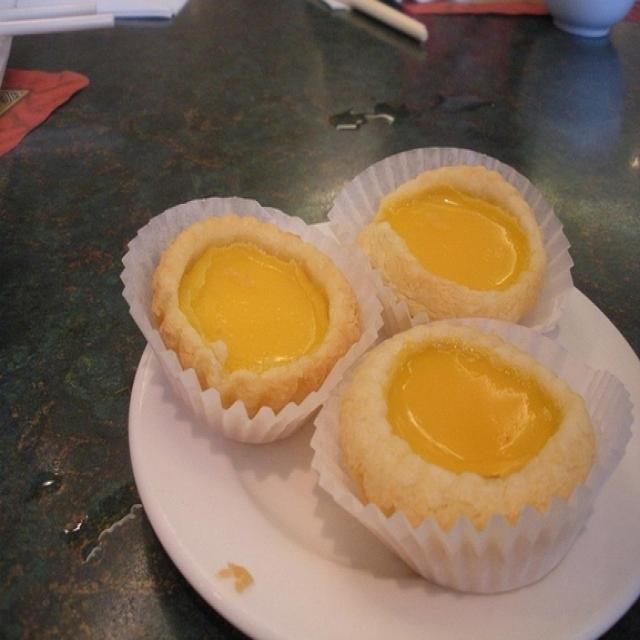炸货点心: (123, 127, 613, 605)
蛋糕甜品: (123, 127, 613, 605)
